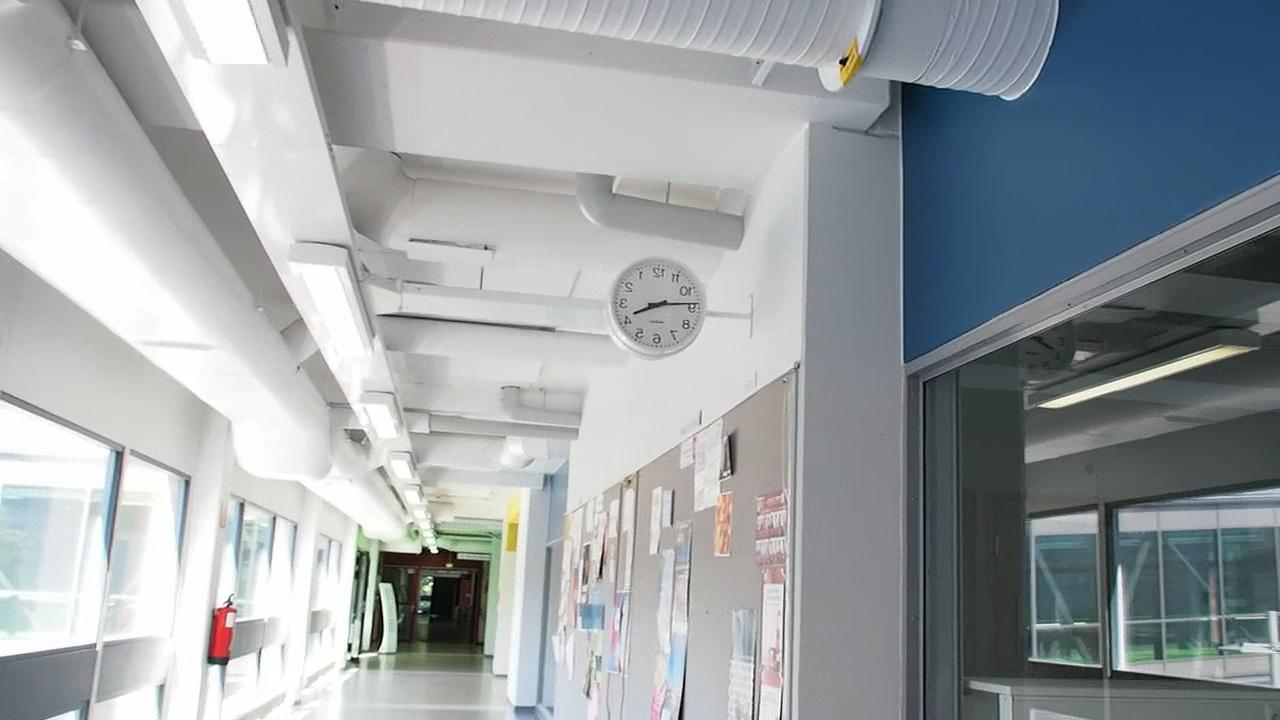clock: (606, 256, 705, 357)
